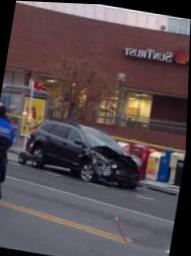Bonnet: (87, 145, 140, 167)
Bumper: (94, 167, 142, 185)
Fender: (85, 147, 113, 174)
